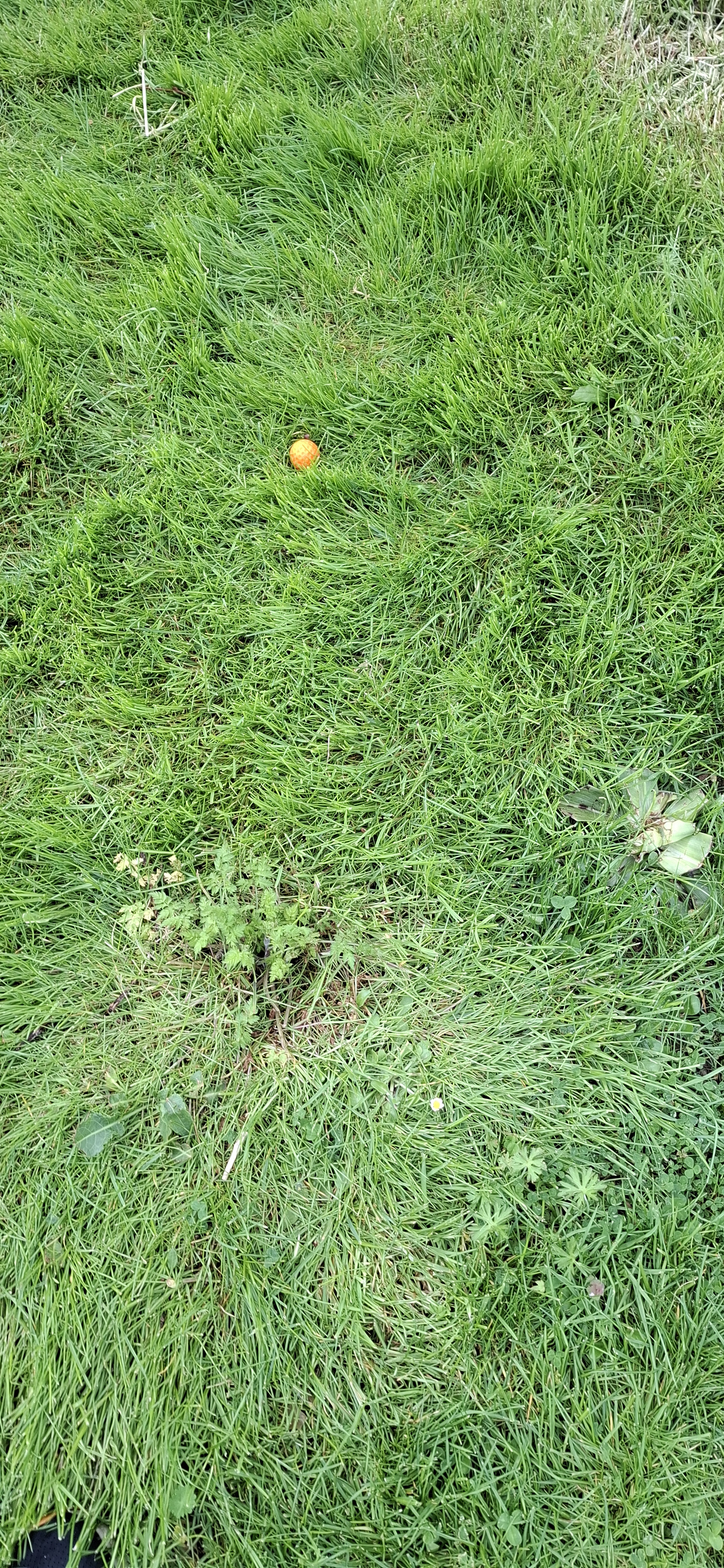ball: (202, 876, 218, 941)
